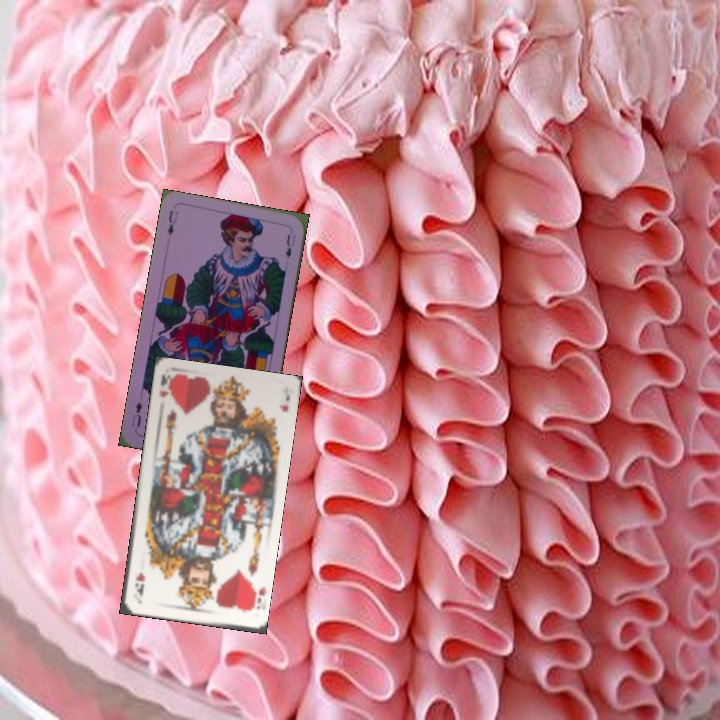EU: (163, 206, 180, 238)
HK: (245, 578, 264, 614), (156, 371, 175, 400)
